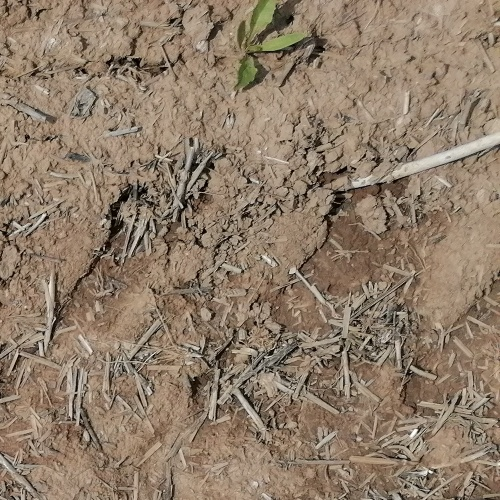beet: (233, 0, 306, 91)
